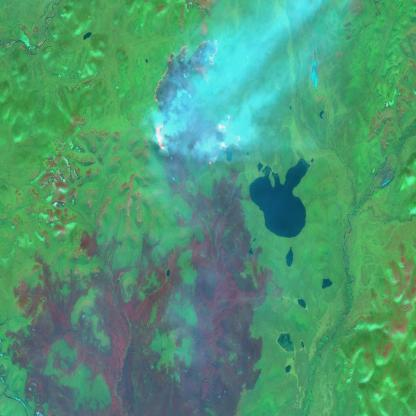fire: (152, 37, 242, 166)
